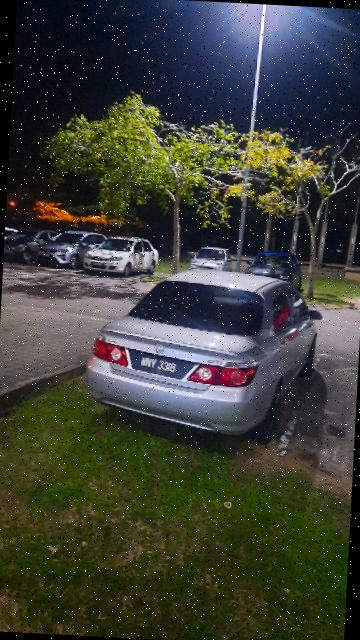License_Plate: (128, 349, 200, 382)
car: (82, 263, 328, 447), (37, 229, 115, 271), (83, 236, 160, 277), (244, 250, 306, 297), (4, 224, 64, 267), (187, 245, 235, 278)
